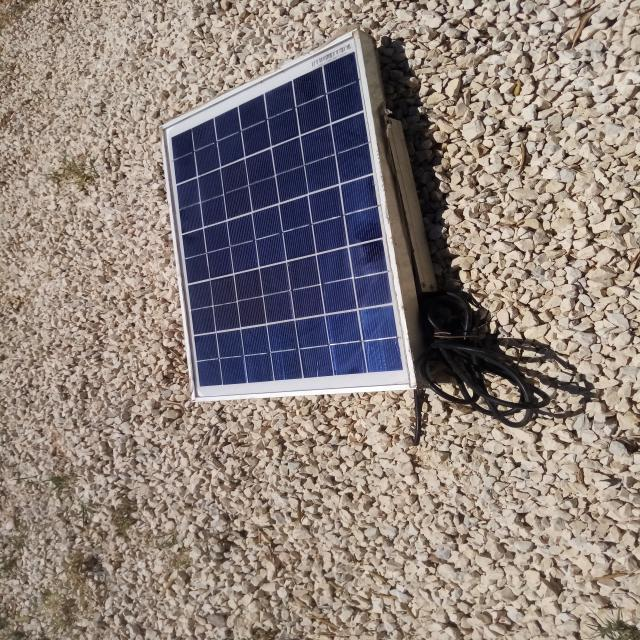Normal Solar Panel: (159, 30, 414, 399)
